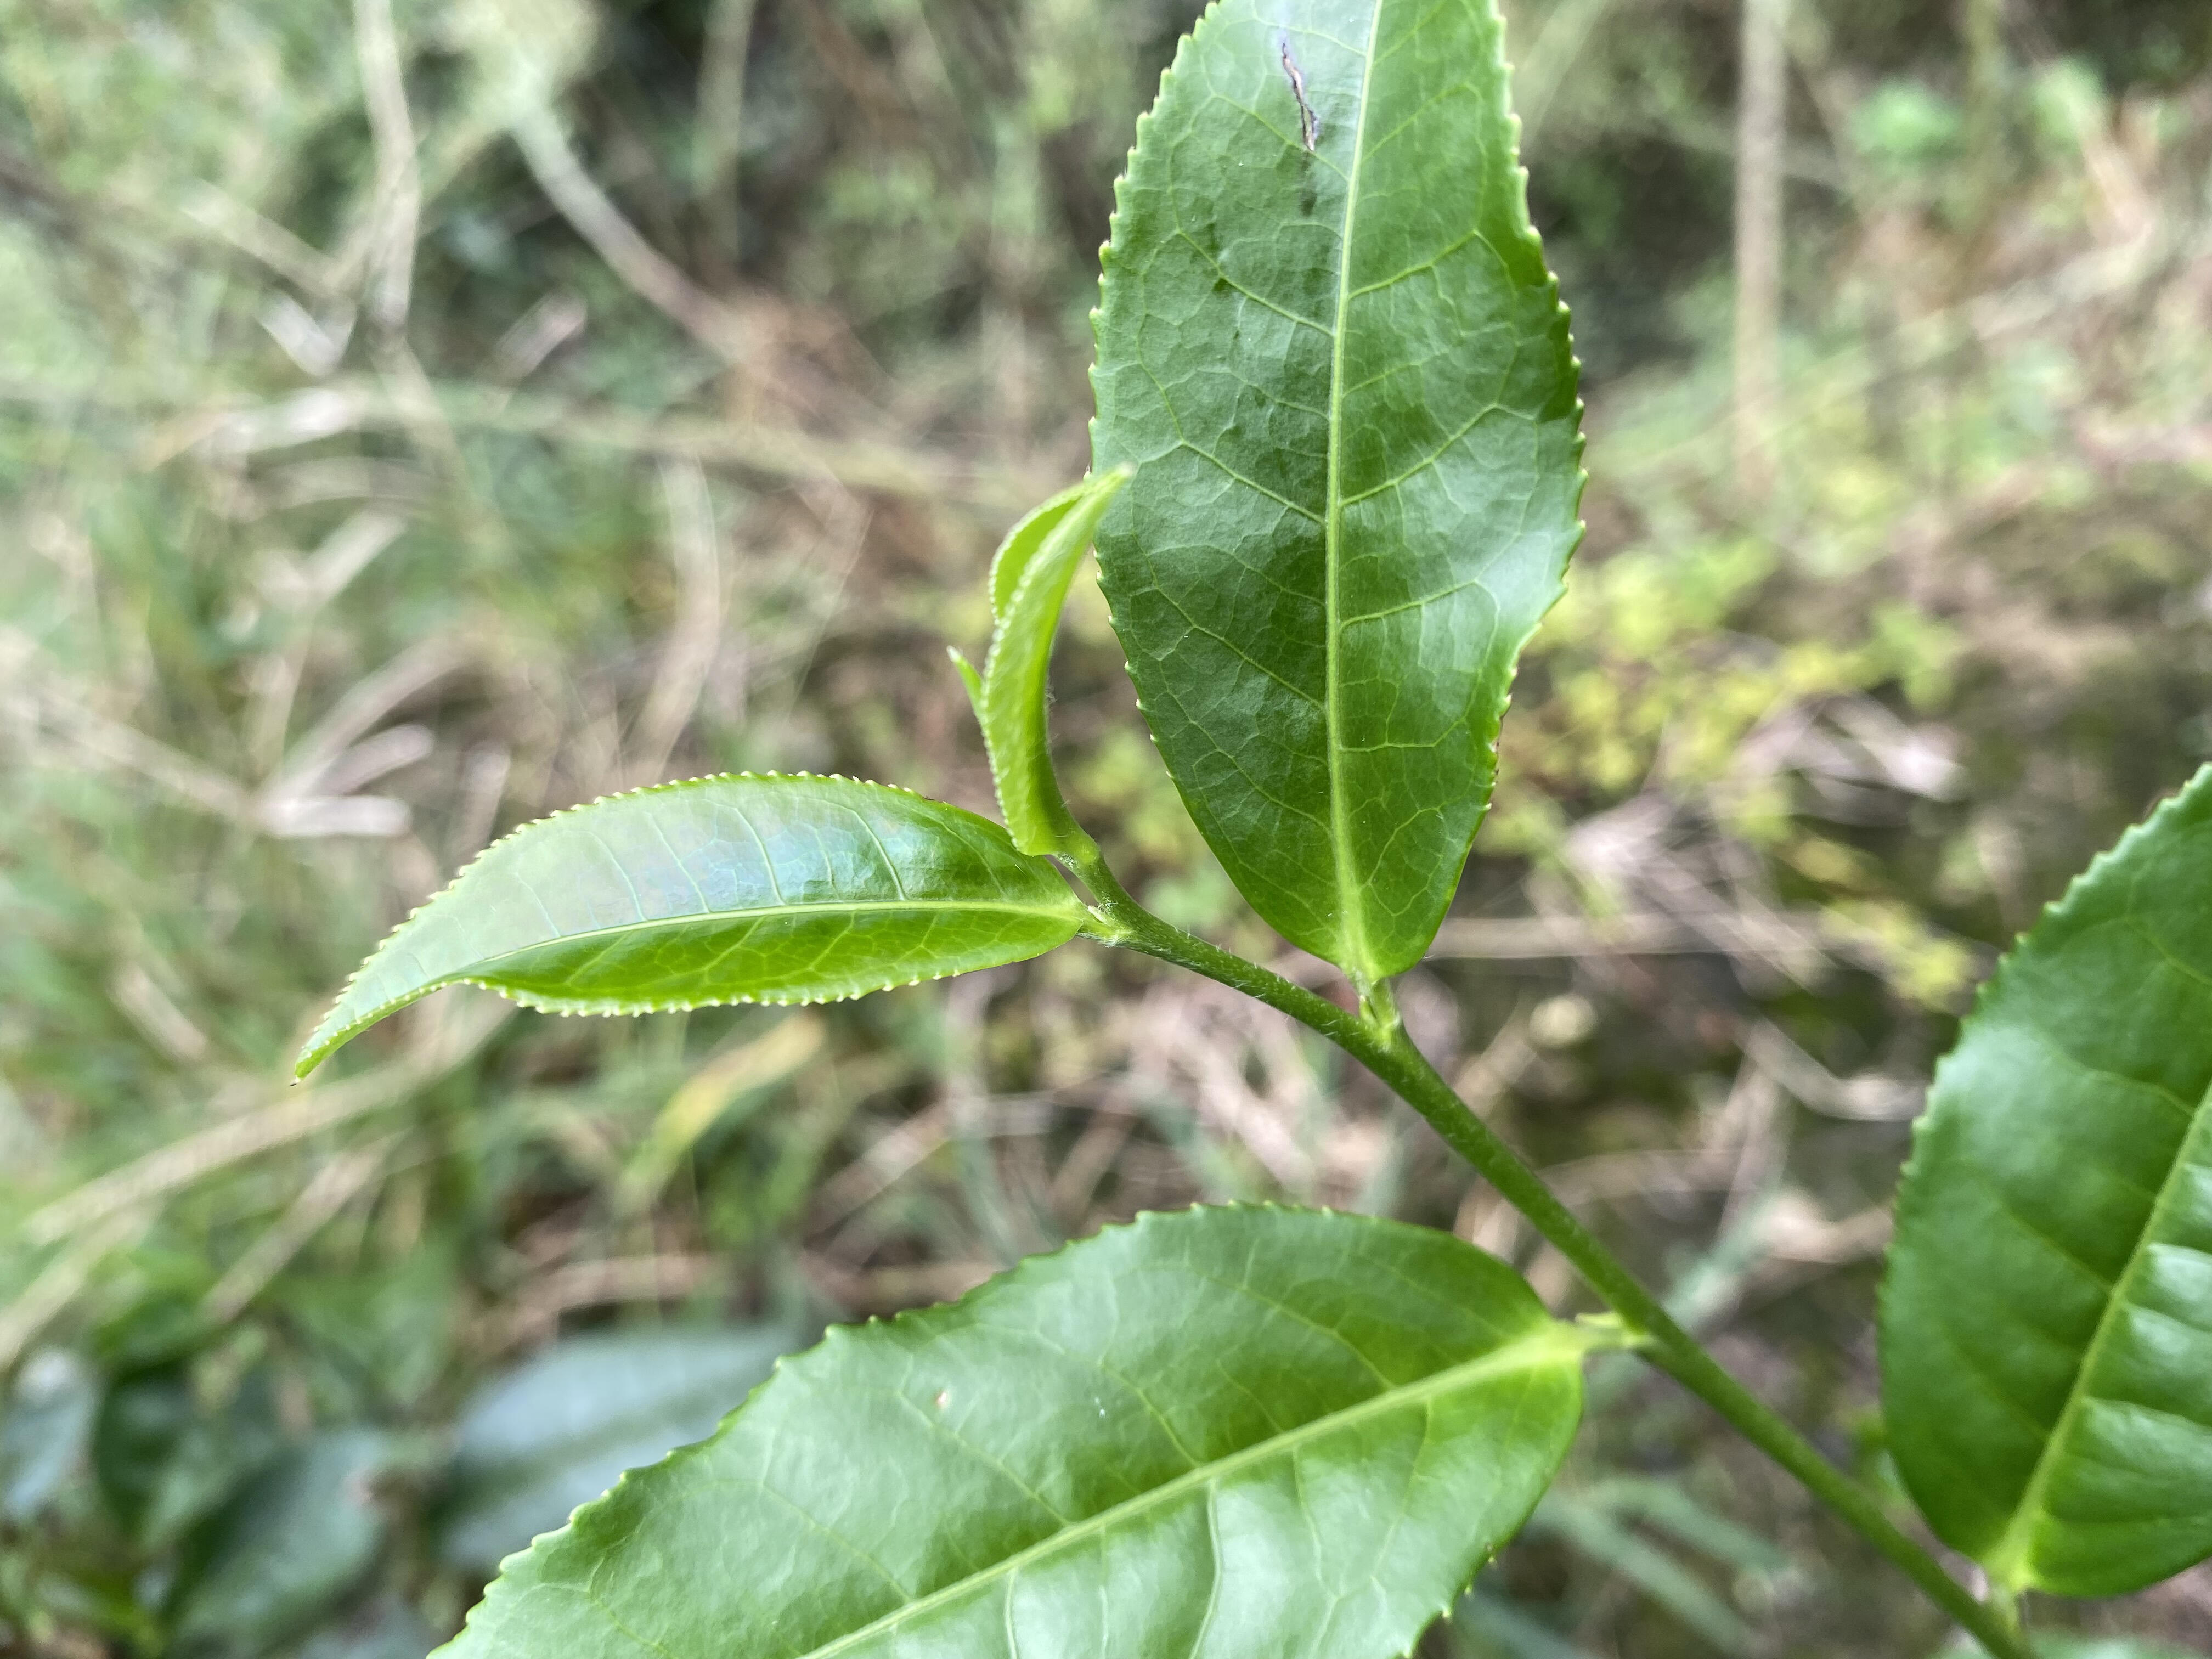healthy: (411, 1195, 1587, 1659), (1874, 753, 2210, 1605), (291, 769, 1089, 1080)
tanju_low: (1083, 3, 1588, 990)
